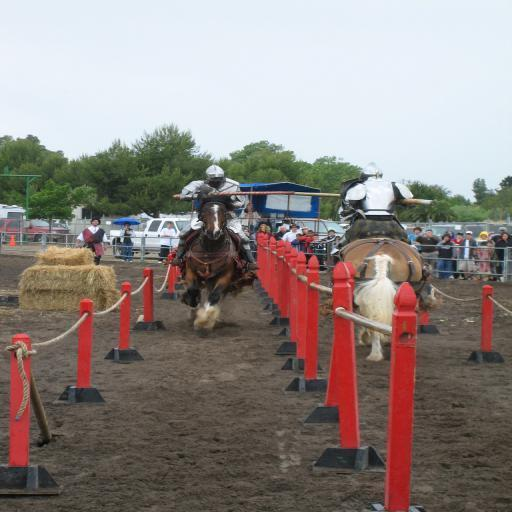horse: (336, 238, 427, 363), (182, 192, 242, 340)
